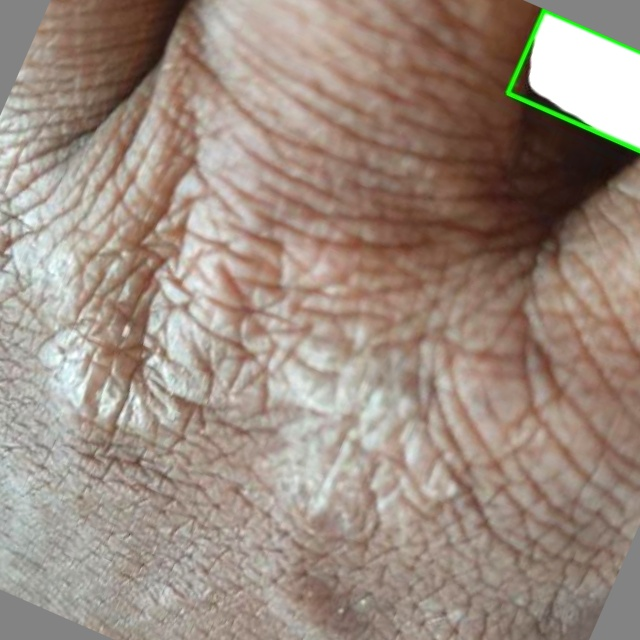Contact Dermatitis: (507, 10, 639, 151)
